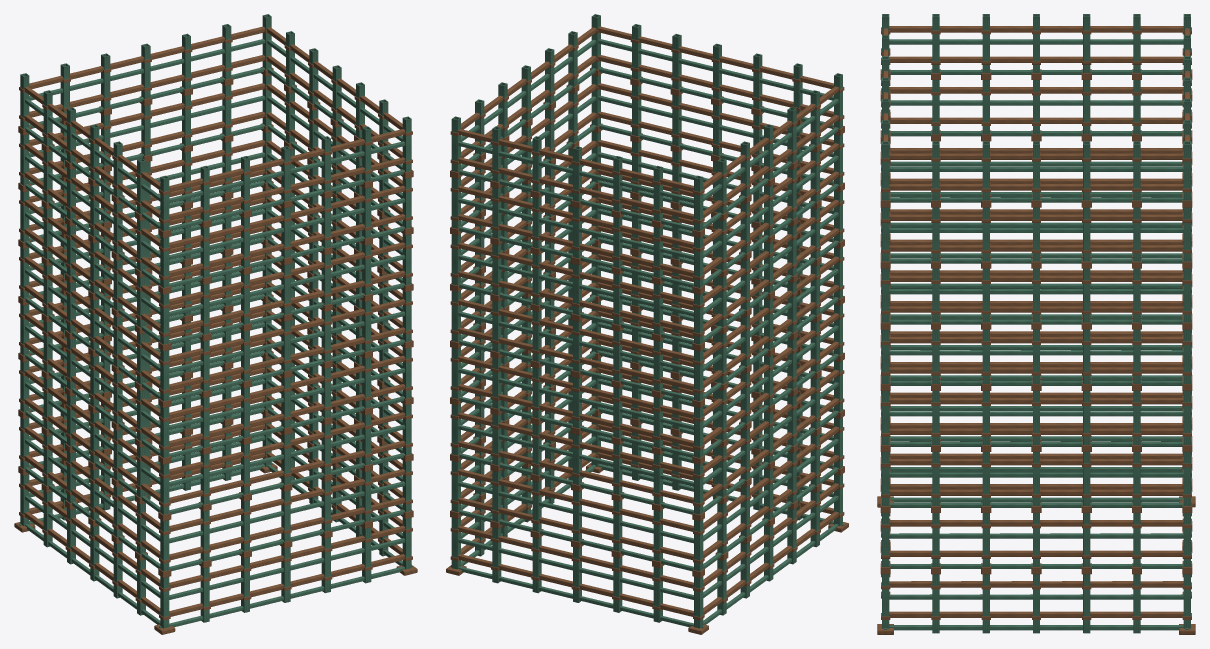
The picture shows the model from 3 angles, left to right: view 1: azimuth 30°, elevation 25°; view 2: azimuth 150°, elevation 25°; view 3: azimuth 270°, elevation 25°; orthographic projection. The views are drawn at different scales.
Size of the model in its own units: 2.85 by 4.83 by 2.85.
Materials: 2 (2 with a texture image).
